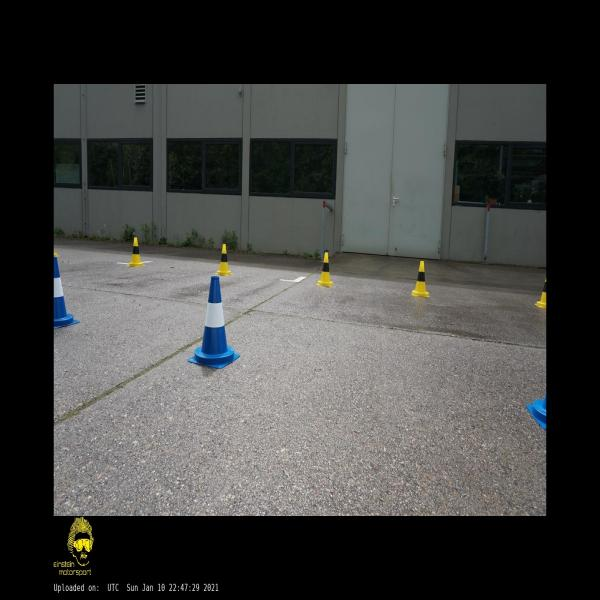blue_cone: (187, 275, 240, 368), (54, 257, 79, 329)
yellow_cone: (410, 261, 430, 297), (316, 252, 334, 288), (126, 237, 144, 266), (215, 244, 231, 274), (534, 276, 546, 308)
